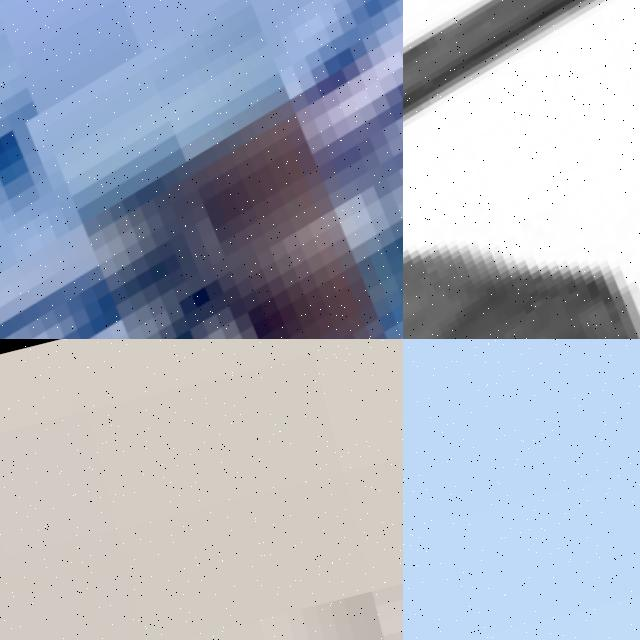drone: (0, 0, 403, 339), (403, 0, 640, 339)
